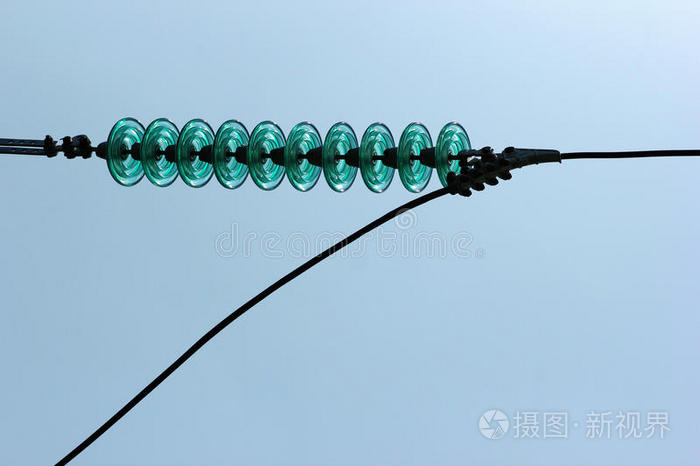insulator: (105, 114, 472, 195)
